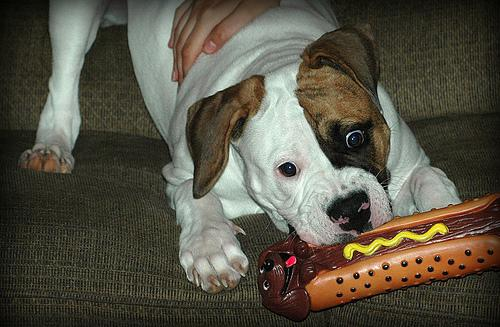dog-american_bulldog: (184, 20, 391, 243)
